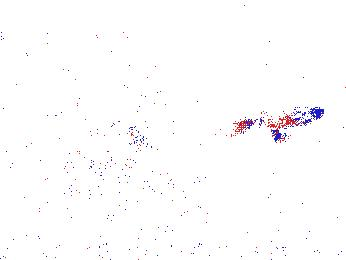glassfish: (77, 149, 184, 199)
redtail glassfish: (237, 104, 326, 136)
